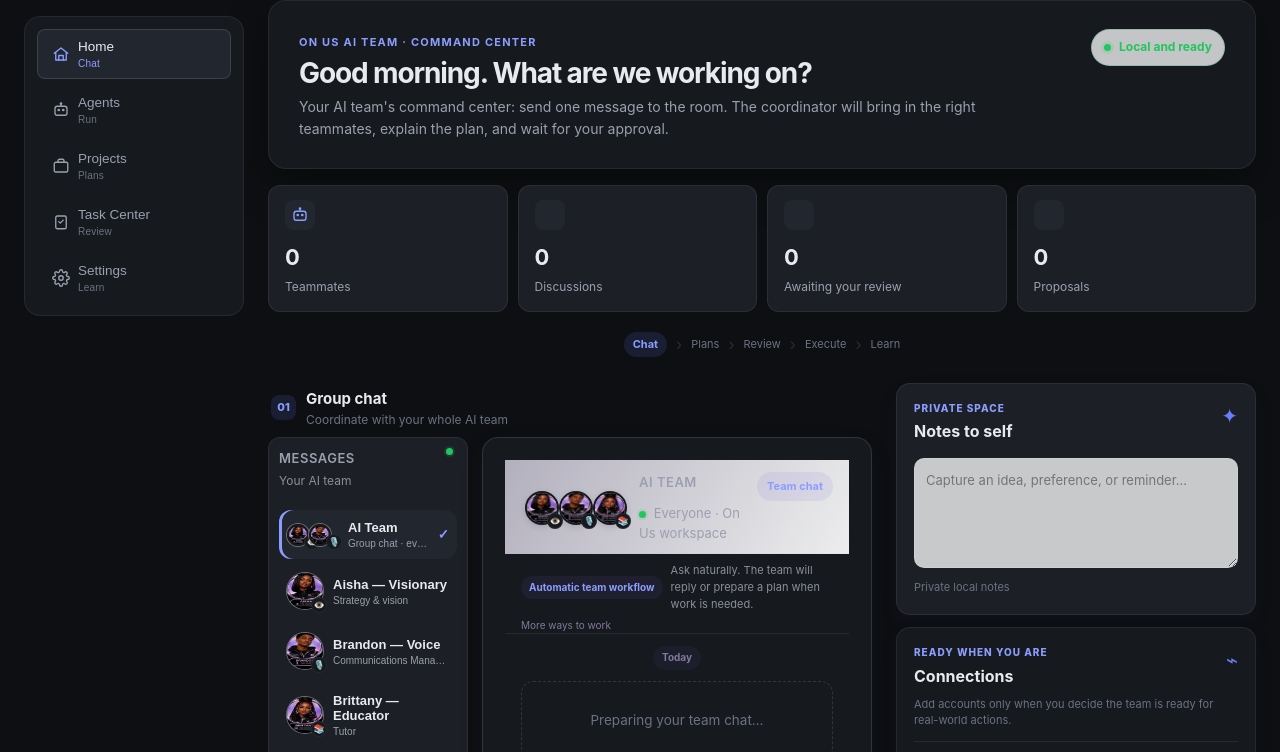
Phase 4 — Task Center, Settings, conversation-to-task › links from the Task Center to coordination (AI tab)
The image size is (1280, 752).
Step 1. Click the button "Task Center Review" → [134, 222], box [37,197,231,247]
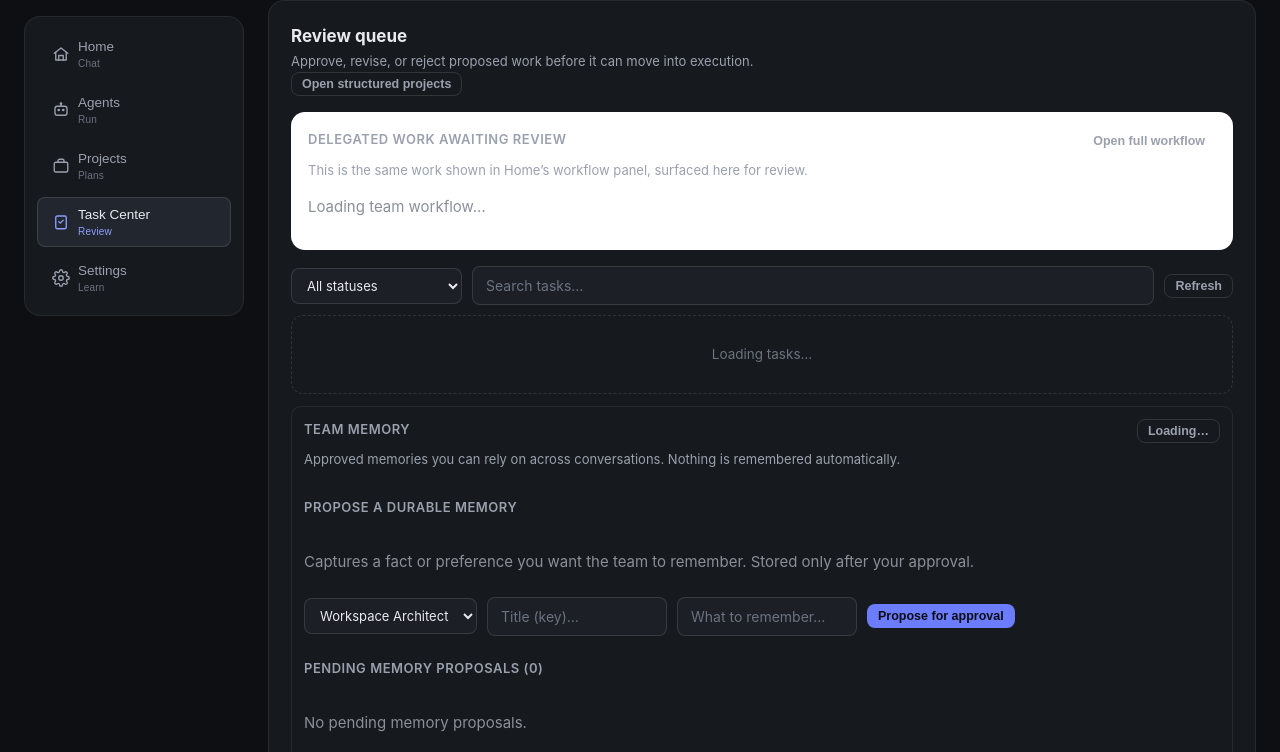
Expected: the button with test id "open-coordination" reads "Open structured projects"
Step 2. Click the button with test id "open-coordination" → [377, 84], box [291,72,462,96]
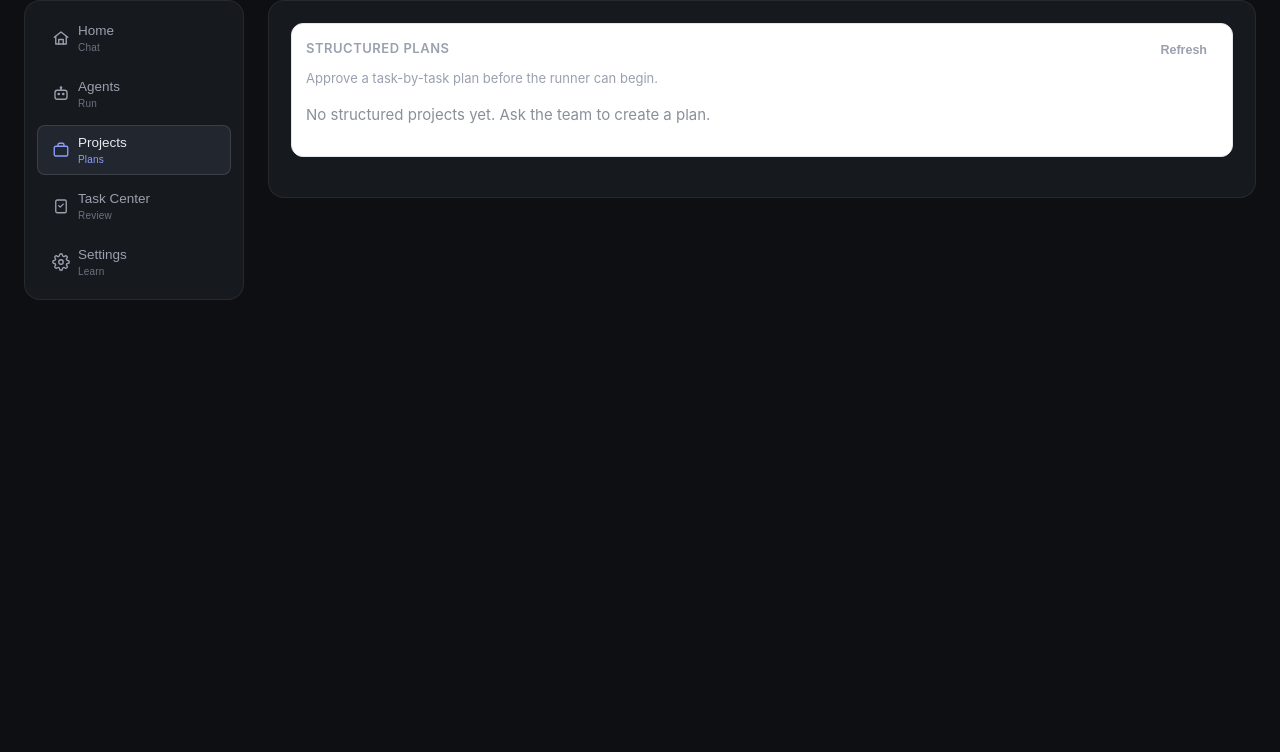
Expected: the element with test id "structured-projects" is shown, [291,23,1233,156]
